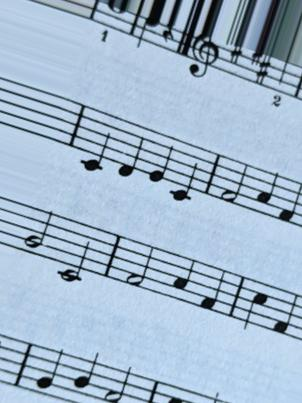A: (170, 249, 196, 313), (254, 163, 280, 225)
B: (73, 351, 101, 402)
D: (118, 114, 144, 181)
E: (148, 125, 173, 186)
F: (198, 257, 226, 322), (271, 282, 299, 344), (277, 171, 300, 234)
G: (34, 341, 66, 403)
HC: (241, 271, 269, 333)
LC: (78, 99, 111, 174), (167, 130, 198, 206)
